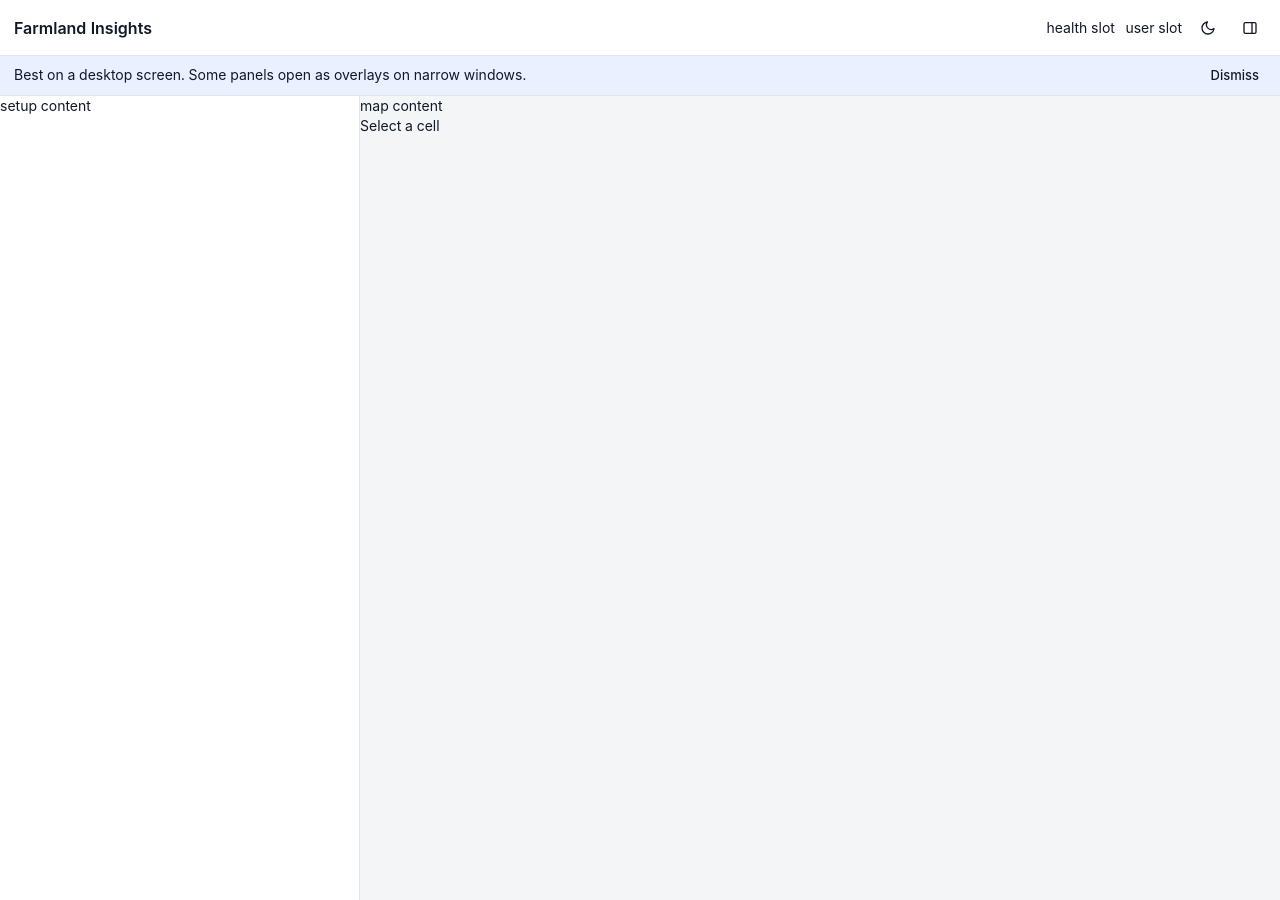
Test: AppShell › below 1280px the inspector is a drawer that starts closed and opens on demand
Expected: the element "Inspector" is not shown
Click the button named "Show inspector".
click(1250, 28)  # box [1234,12,1266,43]
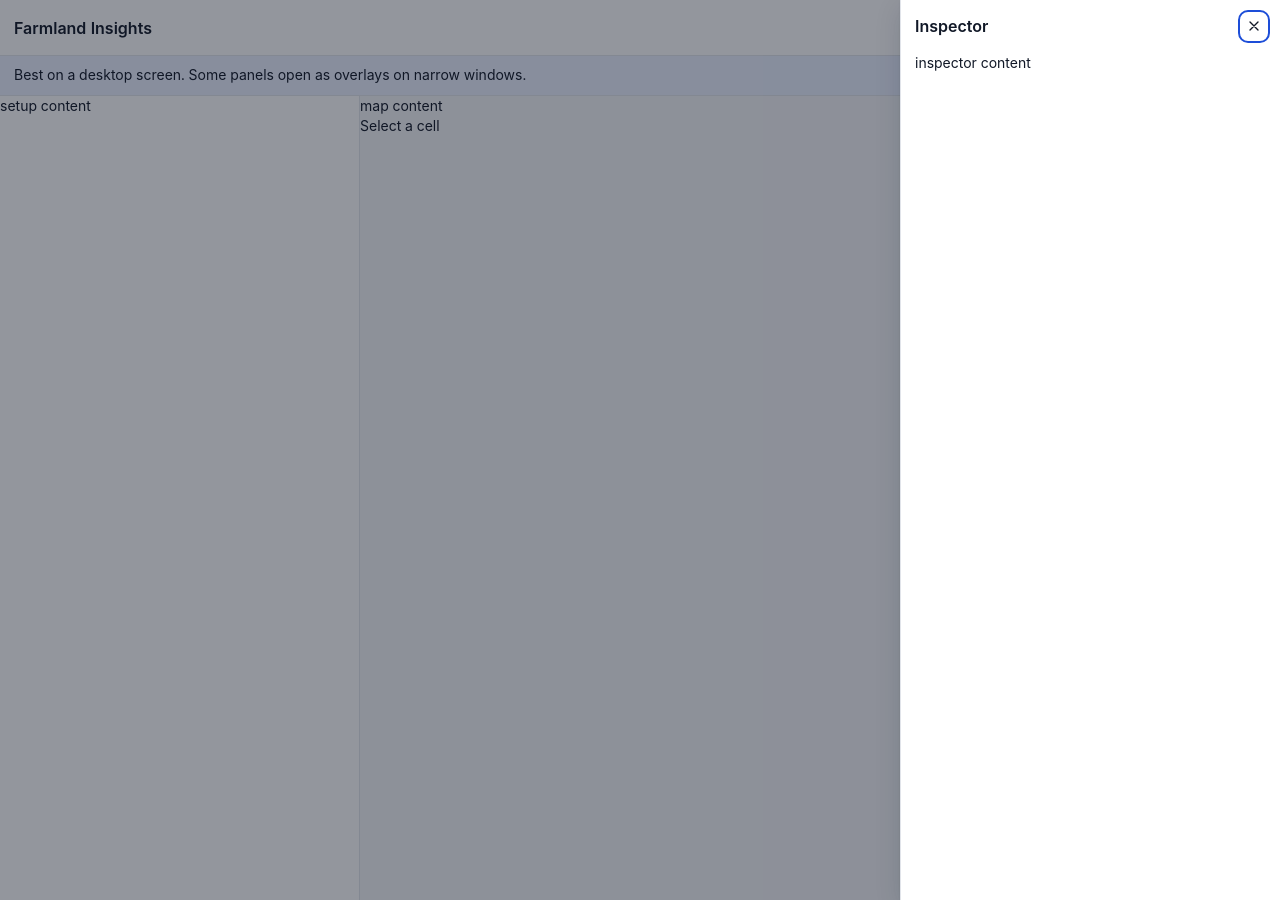
Now the text "inspector content" is shown, box [915,54,1031,70]
Press Escape
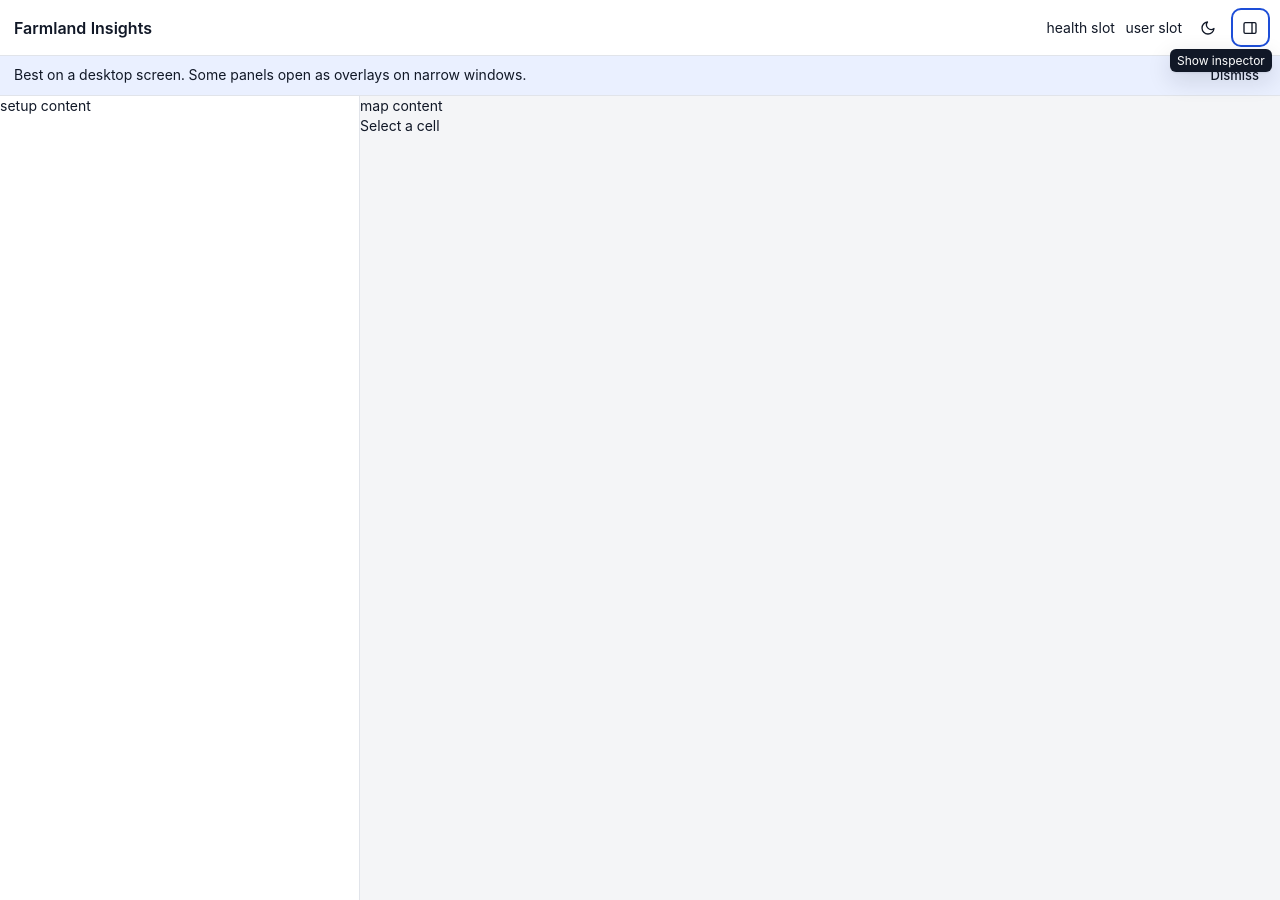
Now the dialog is gone
